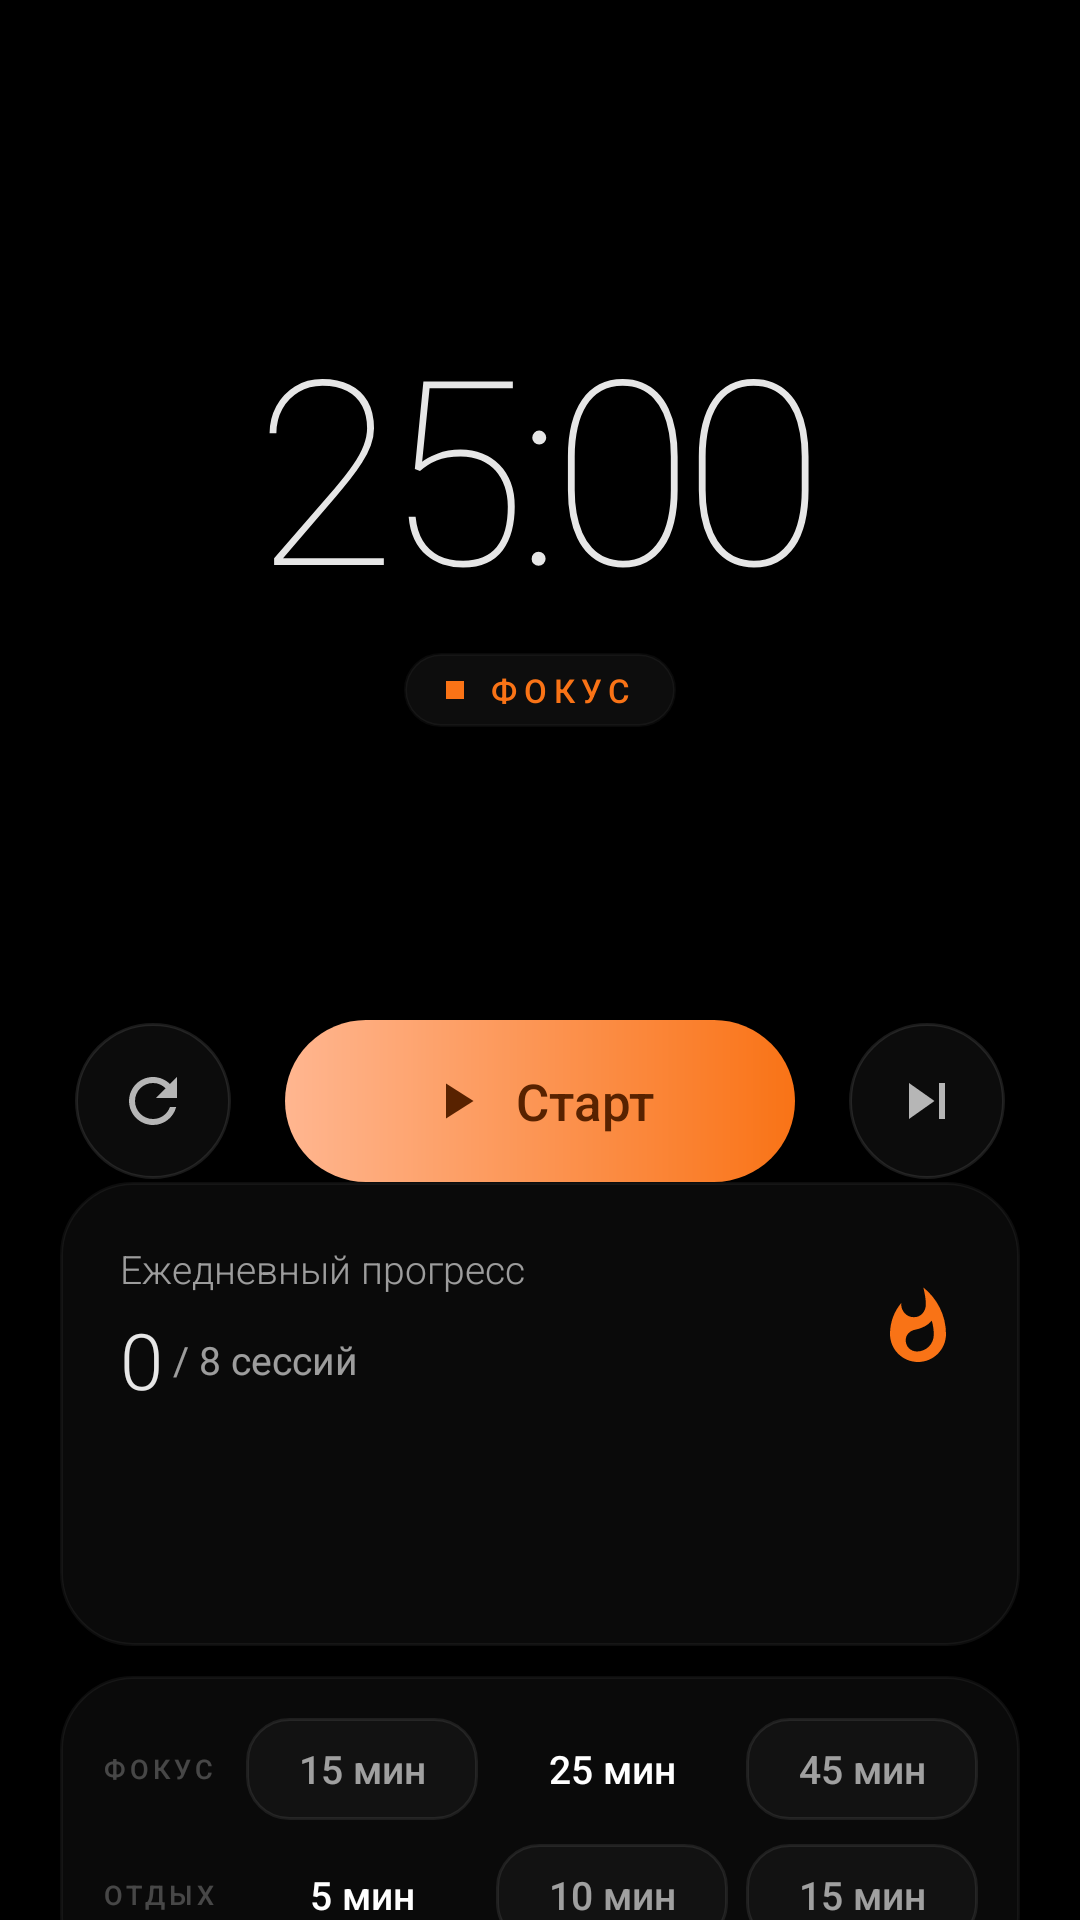

Named icons in this screenshot (1080w x 1920h) and their bounding boxes, {"x1": x1, "y1": y1, "x2": x2, "y2": y2}:
fire: {"x1": 890, "y1": 1287, "x2": 946, "y2": 1362}
play: {"x1": 446, "y1": 1083, "x2": 473, "y2": 1119}
Пропустить: {"x1": 849, "y1": 1023, "x2": 1005, "y2": 1179}
Сбросить: {"x1": 75, "y1": 1023, "x2": 231, "y2": 1179}
